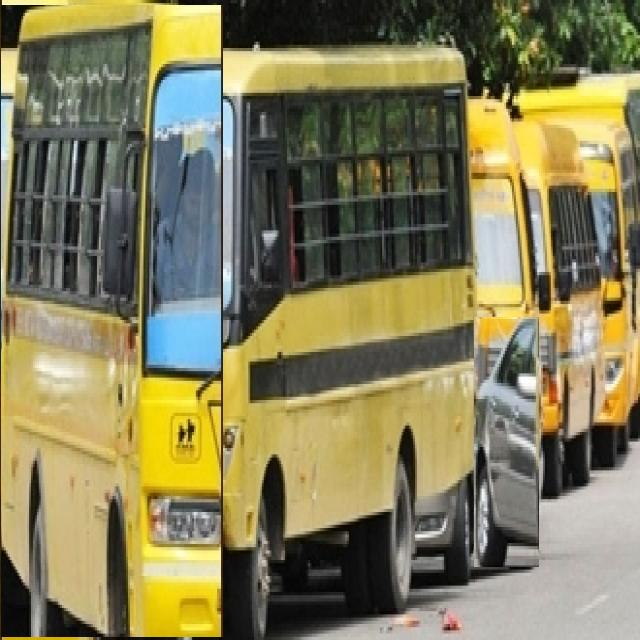bus: (206, 52, 476, 636), (1, 5, 222, 637)
car: (474, 318, 539, 567), (419, 500, 452, 552)
